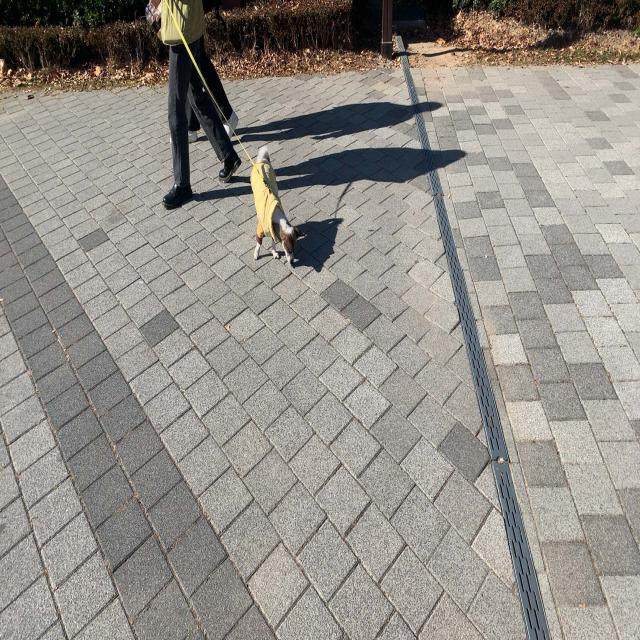Leashed_Dog: (179, 34, 298, 267)
